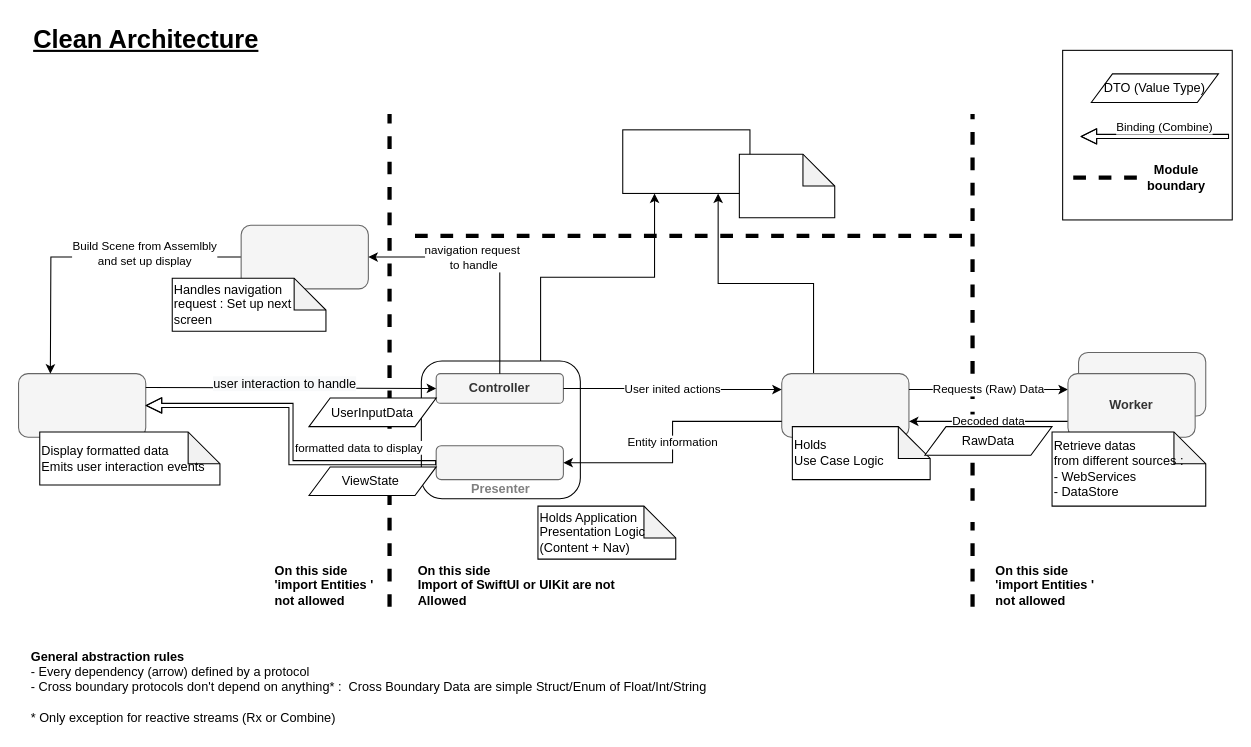
Image size: 1251x747. Some labels were removed from this diagram. The centre of each missing label's shape, as x and y in pixels:
"Entity (Business Object)" goes at point (686, 161).
"Holds Business Logic" goes at point (786, 185).
"Interactor" goes at point (845, 405).
"Publisher" goes at point (499, 462).
"Router" goes at point (304, 256).
"View" goes at point (81, 405).
